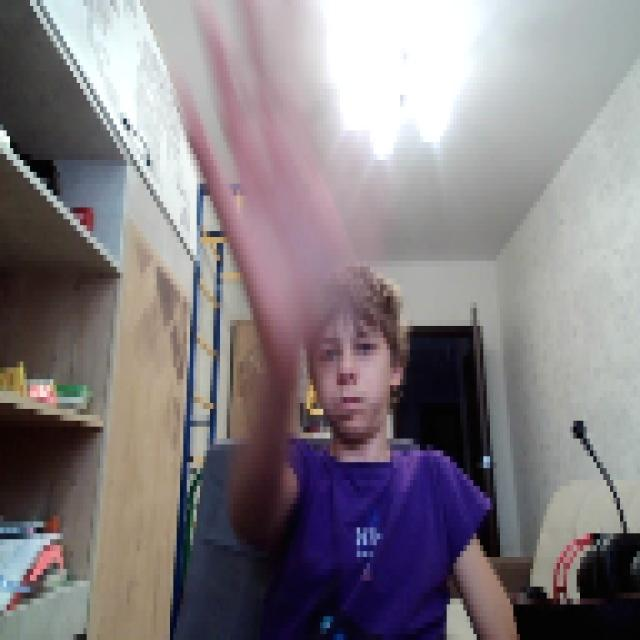hand: (176, 0, 376, 344)
